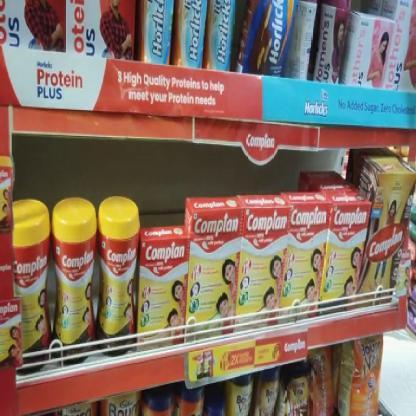Complan Kesar Badam: (186, 206, 236, 340), (240, 208, 286, 330), (286, 201, 329, 323), (140, 234, 186, 345)
Complan Royal Chocolate: (52, 202, 95, 366), (12, 204, 54, 370), (97, 197, 138, 356), (368, 173, 414, 300), (325, 202, 370, 313)
